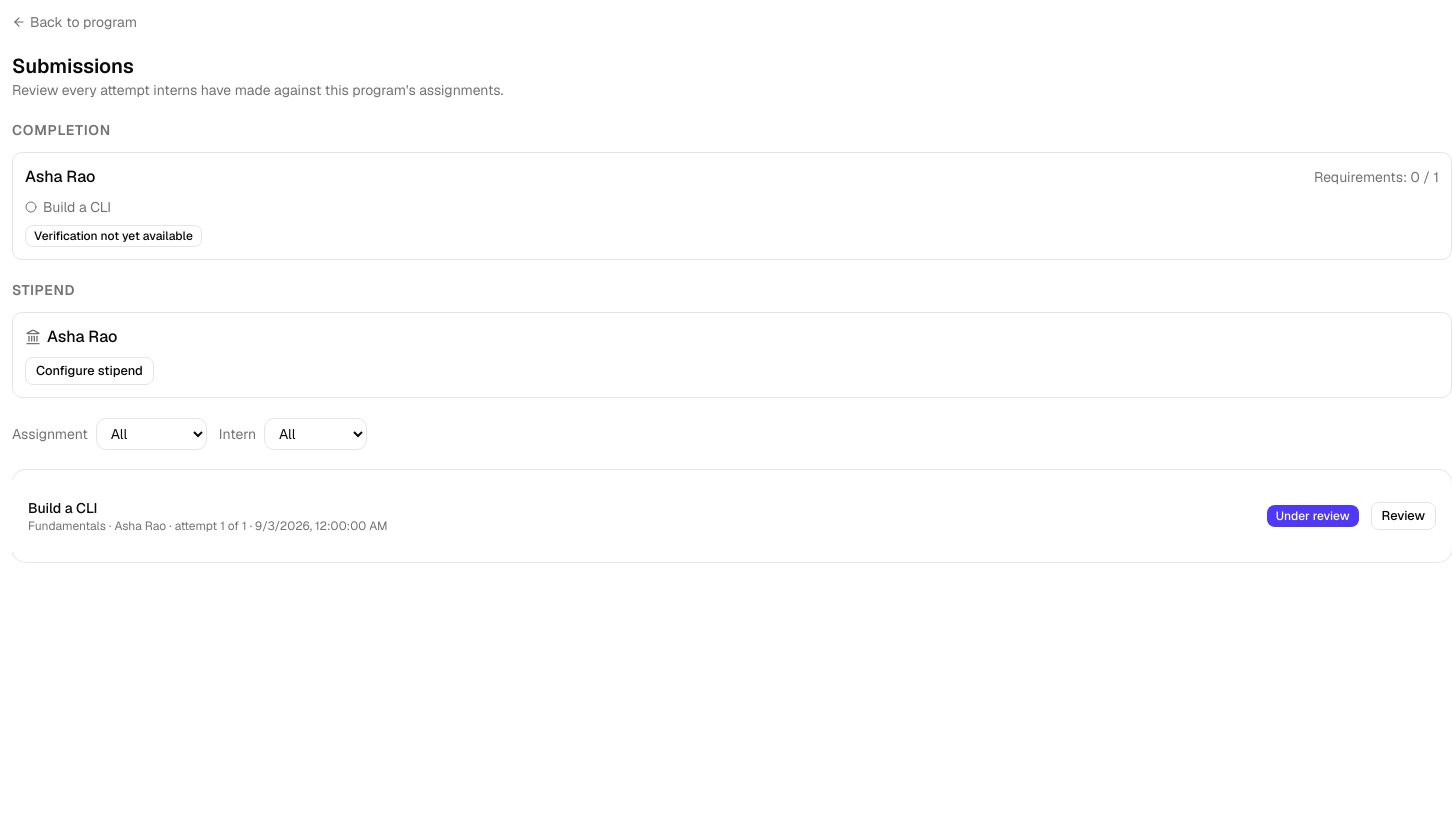
Test case: ProgramSubmissionsView › hides Start review once the attempt is UNDER_REVIEW
Click the button "Review": (1403, 516) [1371, 502, 1436, 530]
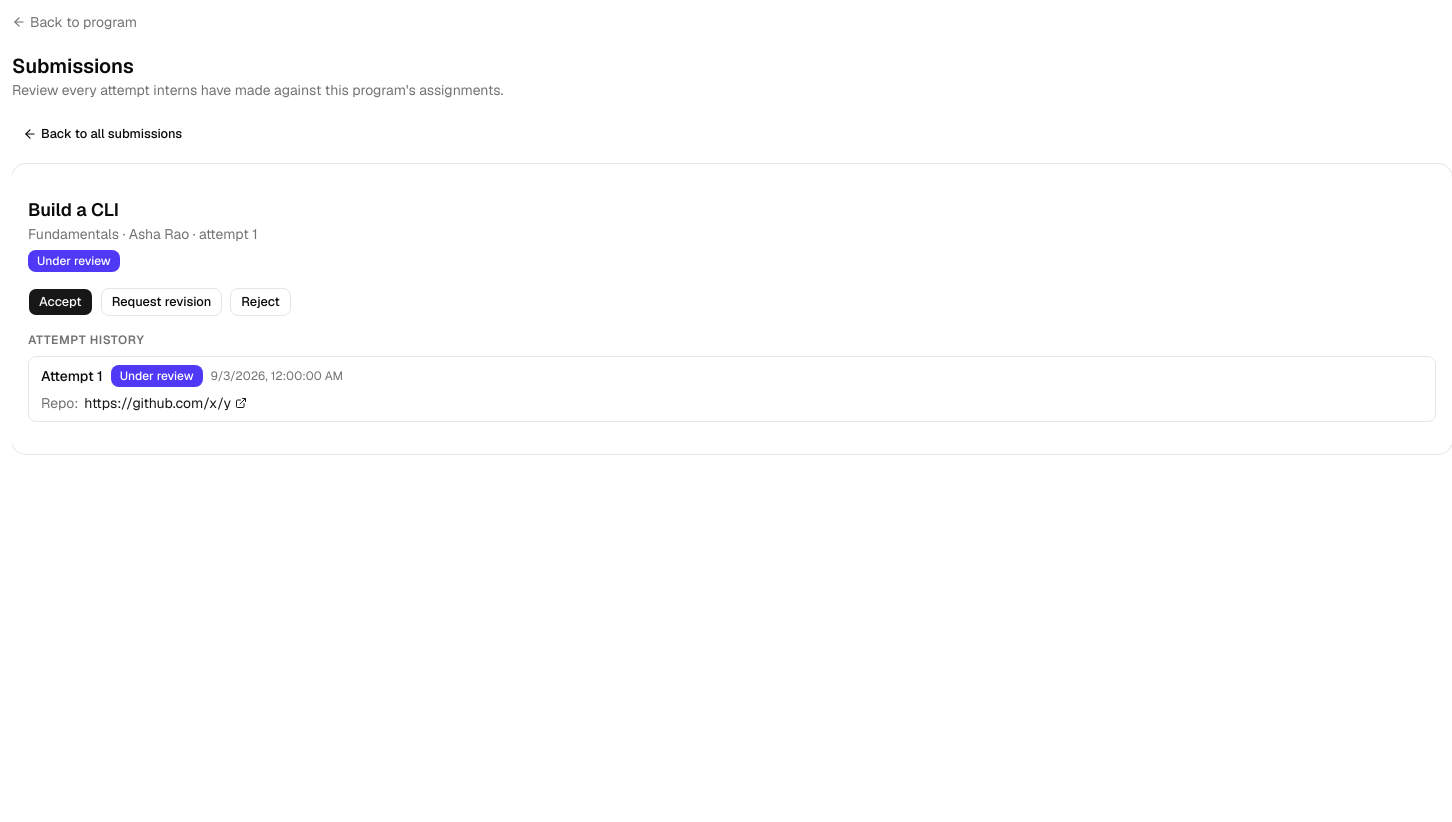
Result: the button "Accept" is shown at [28, 288, 93, 316]
